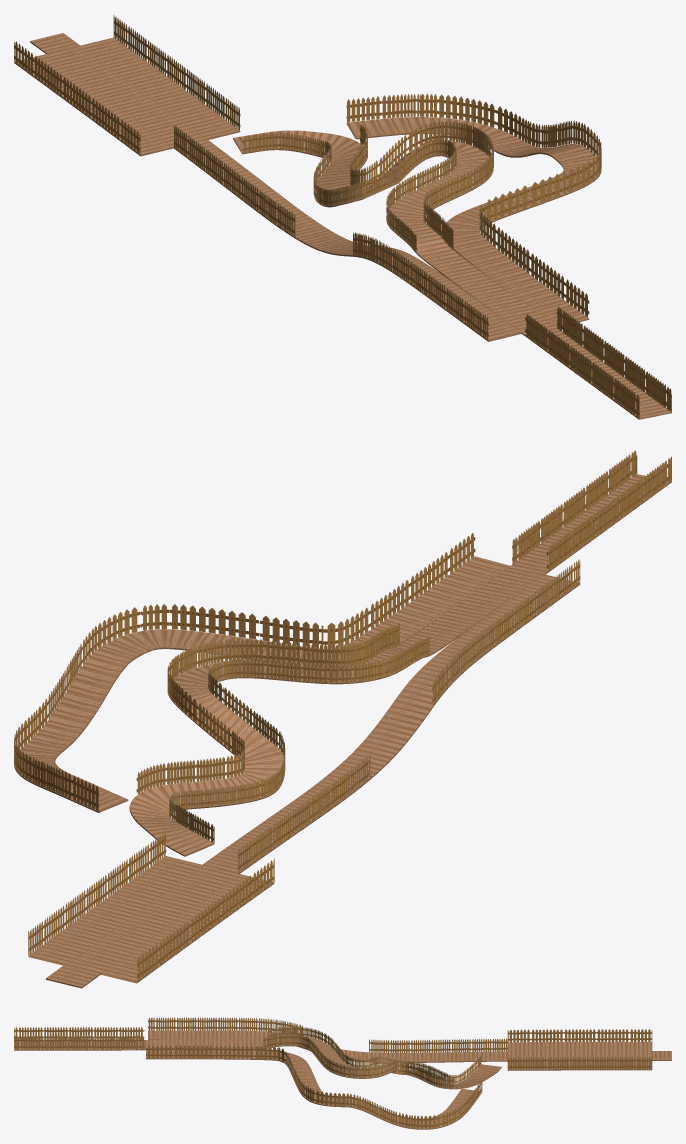
The model's file is track 10_A.fbx.
The picture shows the model from 3 angles, top to bottom: view 1: azimuth 30°, elevation 25°; view 2: azimuth 150°, elevation 25°; view 3: azimuth 270°, elevation 25°; orthographic projection. The views are drawn at different scales.
Parts seen in each view (by area): view 1: Cube.001, Cube.010, Cube.005, Cube, Cube.004, Cube.008, Cube.002, Cube.003, Cube.007; view 2: Cube.001, Cube.010, Cube, Cube.005, Cube.007, Cube.008, Cube.004, Cube.002, Cube.003; view 3: Cube.001, Cube.005, Cube.010, Cube.004, Cube.002, Cube.003, Cube, Cube.007, Cube.008.
Boxes of the visible parts, x1,y1,x2,y2 form: Cube.001: [14, 33, 521, 341]; Cube.010: [233, 130, 671, 419]; Cube.005: [346, 93, 601, 317]; Cube: [346, 117, 601, 327]; Cube.004: [174, 125, 488, 339]; Cube.008: [242, 132, 456, 251]; Cube.002: [14, 15, 240, 154]; Cube.003: [525, 306, 671, 418]; Cube.007: [350, 121, 493, 250]; Cube.001: [28, 574, 580, 988]; Cube.010: [129, 474, 671, 856]; Cube: [14, 556, 510, 812]; Cube.005: [14, 533, 475, 810]; Cube.007: [136, 623, 399, 794]; Cube.008: [169, 637, 429, 843]; Cube.004: [238, 559, 580, 873]; Cube.002: [28, 832, 274, 981]; Cube.003: [512, 450, 671, 570]; Cube.001: [148, 1030, 671, 1070]; Cube.005: [146, 1045, 482, 1128]; Cube.010: [14, 1035, 501, 1089]; Cube.004: [148, 1017, 507, 1053]; Cube.002: [507, 1029, 652, 1069]; Cube.003: [14, 1027, 144, 1049]; Cube: [146, 1050, 482, 1129]; Cube.007: [263, 1034, 454, 1088]; Cube.008: [268, 1026, 481, 1084].
Size of the model in its own units: 4731 by 1036 by 15485.
Materials: 5 (5 with a texture image).
